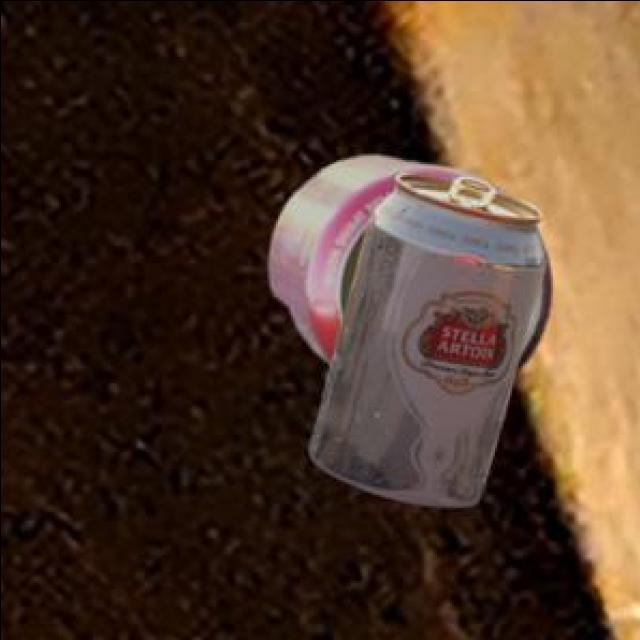logam: (312, 175, 547, 510), (272, 158, 553, 373)
